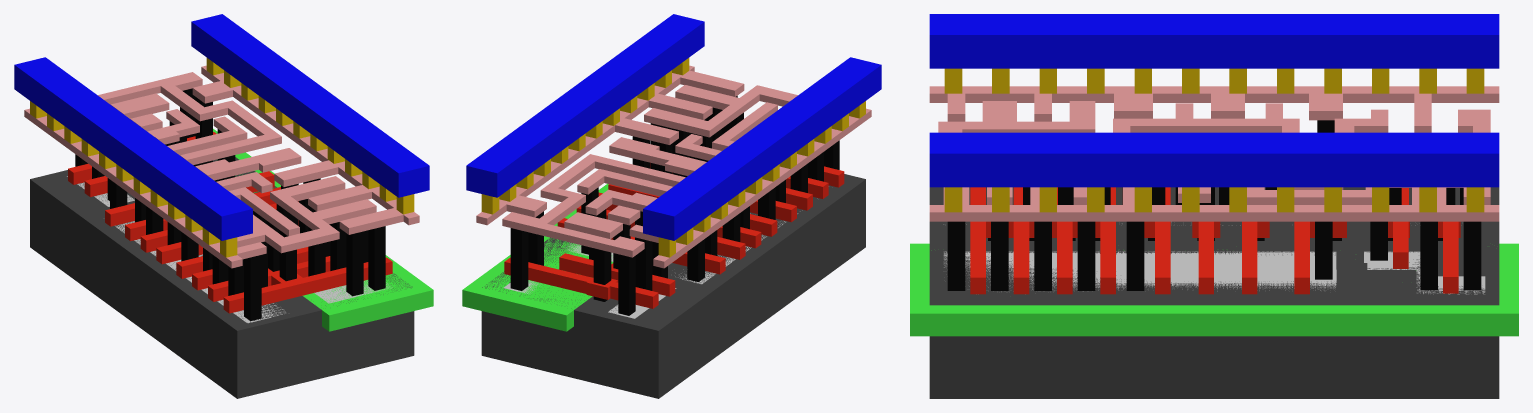
File: sky130_fd_sc_hd__or4bb_4.obj
3 views of the same model, side by side, from view 1: azimuth 30°, elevation 25°; view 2: azimuth 150°, elevation 25°; view 3: azimuth 270°, elevation 25° (orthographic). The views are drawn at different scales.
Parts seen in each view (by area): view 1: subs, metal1, li, licon, poly, mcon, nwell, diff, tap; view 2: subs, metal1, li, licon, poly, nwell, mcon, diff; view 3: metal1, subs, li, nwell, poly, licon, mcon, tap.
Boxes of the visible parts, x1,y1,x2,y2 form: subs: [30, 157, 414, 398]; metal1: [14, 14, 429, 240]; li: [24, 65, 419, 268]; licon: [75, 88, 385, 321]; poly: [68, 132, 392, 313]; mcon: [30, 58, 414, 257]; nwell: [213, 128, 433, 331]; diff: [67, 176, 285, 323]; tap: [314, 280, 392, 303]; subs: [481, 174, 865, 398]; metal1: [466, 14, 881, 240]; li: [476, 65, 871, 268]; licon: [510, 96, 839, 315]; poly: [504, 163, 844, 308]; nwell: [462, 184, 613, 331]; mcon: [481, 58, 865, 257]; diff: [608, 198, 817, 318]; metal1: [929, 14, 1499, 187]; subs: [929, 187, 1499, 398]; li: [929, 86, 1499, 221]; nwell: [910, 243, 1518, 336]; poly: [970, 187, 1460, 294]; licon: [947, 120, 1481, 290]; mcon: [944, 68, 1484, 212]; tap: [943, 251, 1485, 294].
Size of the model in its own units: 3.2 by 2.74 by 5.9.
